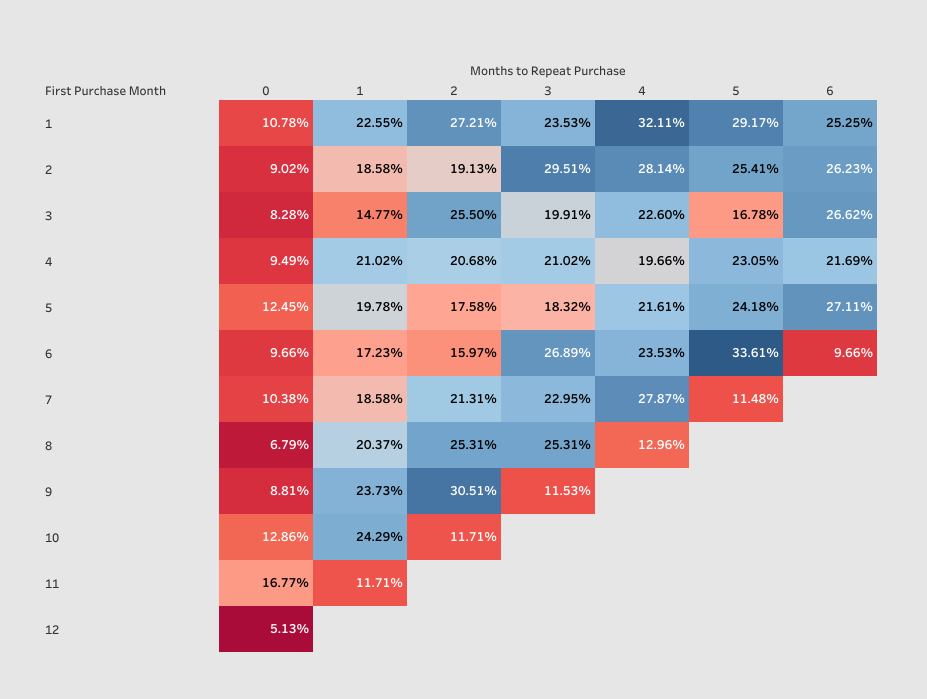

The page's visual inventory and layout, read from the dashboard file:
{"tool":"tableau","page":{"name":"Purchase_Latency","canvas":[1400,700],"ordinal":7},"visuals":[{"type":"worksheet","title":"Purchase Latency","mark":"Square","rows":["Calculation_1043427764466733063"],"cols":["Calculation_1043427764467228680"],"box":[258,60,894,600]}]}

Visuals, with their boxes on the page's 1400x700 design canvas (x1, y1, x2, y2). These are canvas units, not pixel positions in the 927x699 screenshot, which may show the page scaled, cropped or inside an application window:
"Purchase Latency" worksheet (Square marks): (258, 60, 1152, 660)
